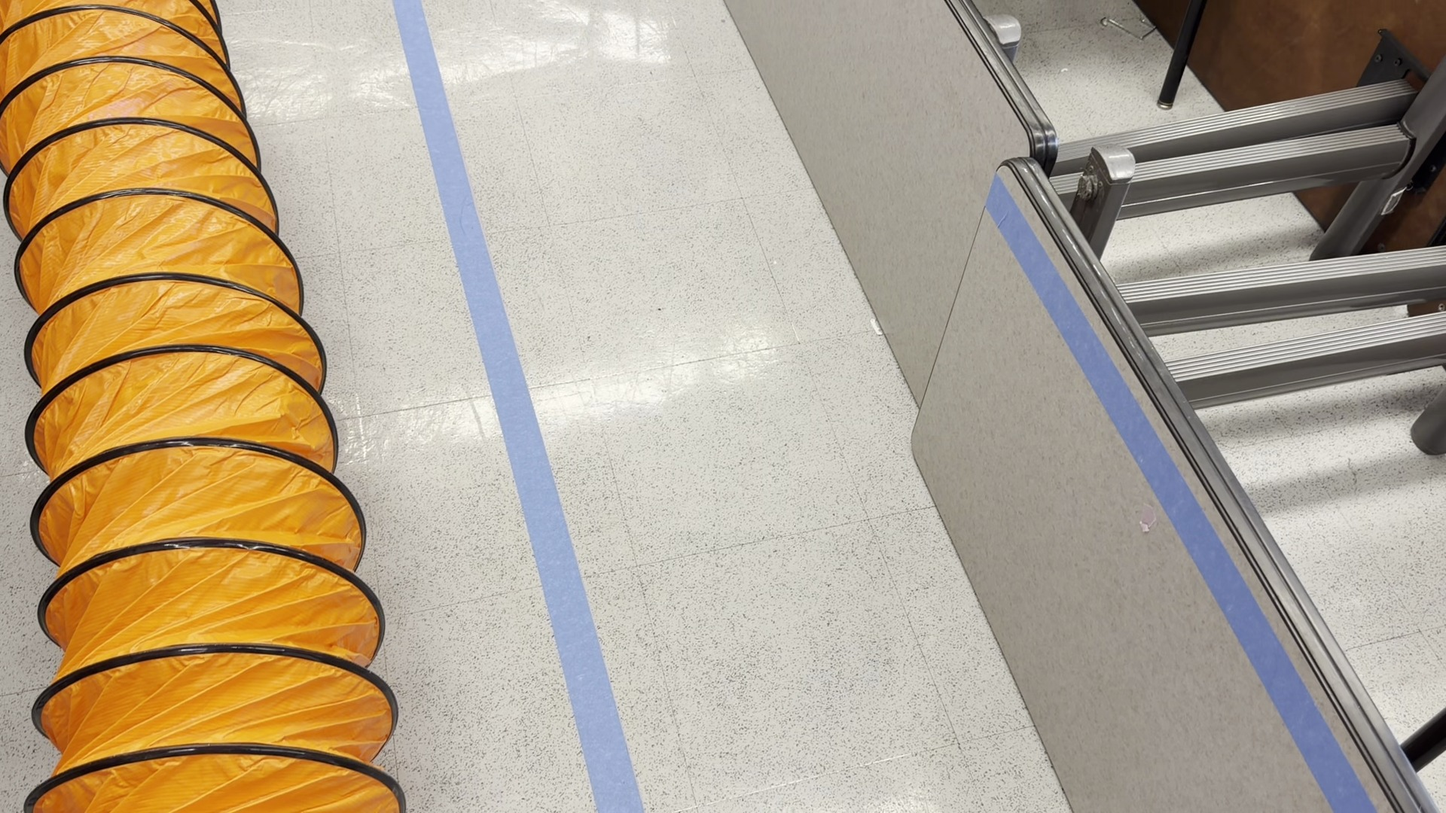racecar: (723, 0, 1443, 812)
